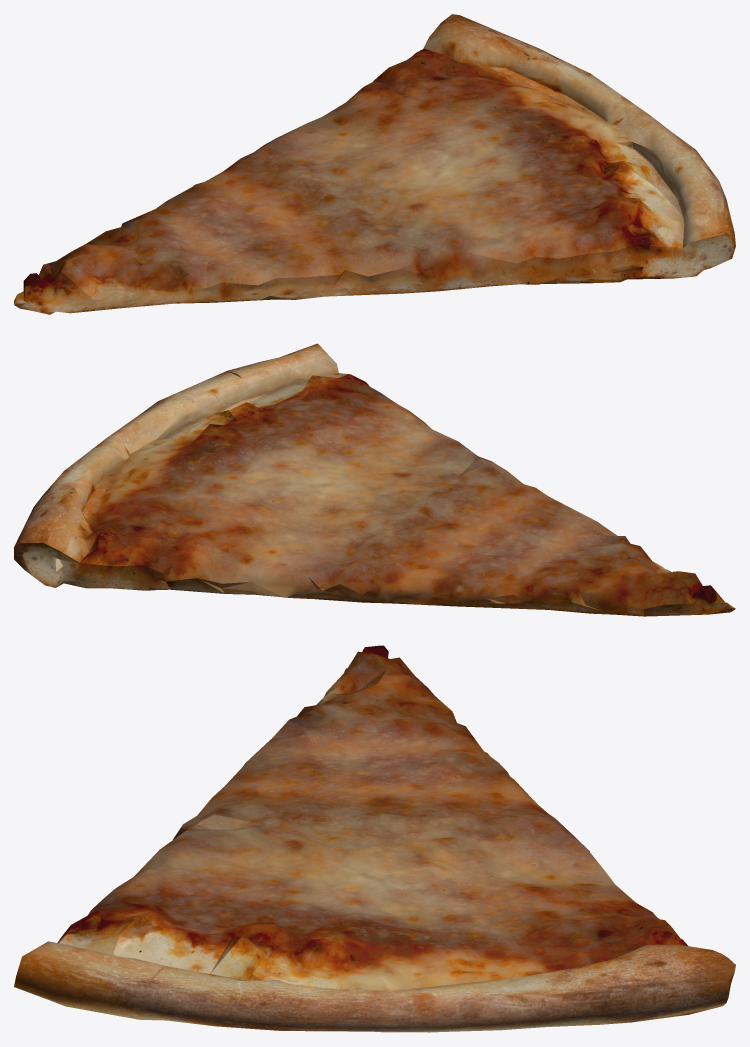
Rendered from Pizza 3.FBX.
3 renders of one model, top to bottom at view 1: azimuth 30°, elevation 25°; view 2: azimuth 150°, elevation 25°; view 3: azimuth 270°, elevation 25°, orthographic. The views are drawn at different scales.
Parts seen in each view (by area): view 1: pizza 3 s; view 2: pizza 3 s; view 3: pizza 3 s.
Part boxes in pixels (<box>): pizza 3 s: <box>14,14,735,314</box>; pizza 3 s: <box>14,343,735,616</box>; pizza 3 s: <box>14,645,735,1032</box>.
Bounding box in the file's own units: 31.72 × 2.7 × 24.99.
1 material, 1 textured.
